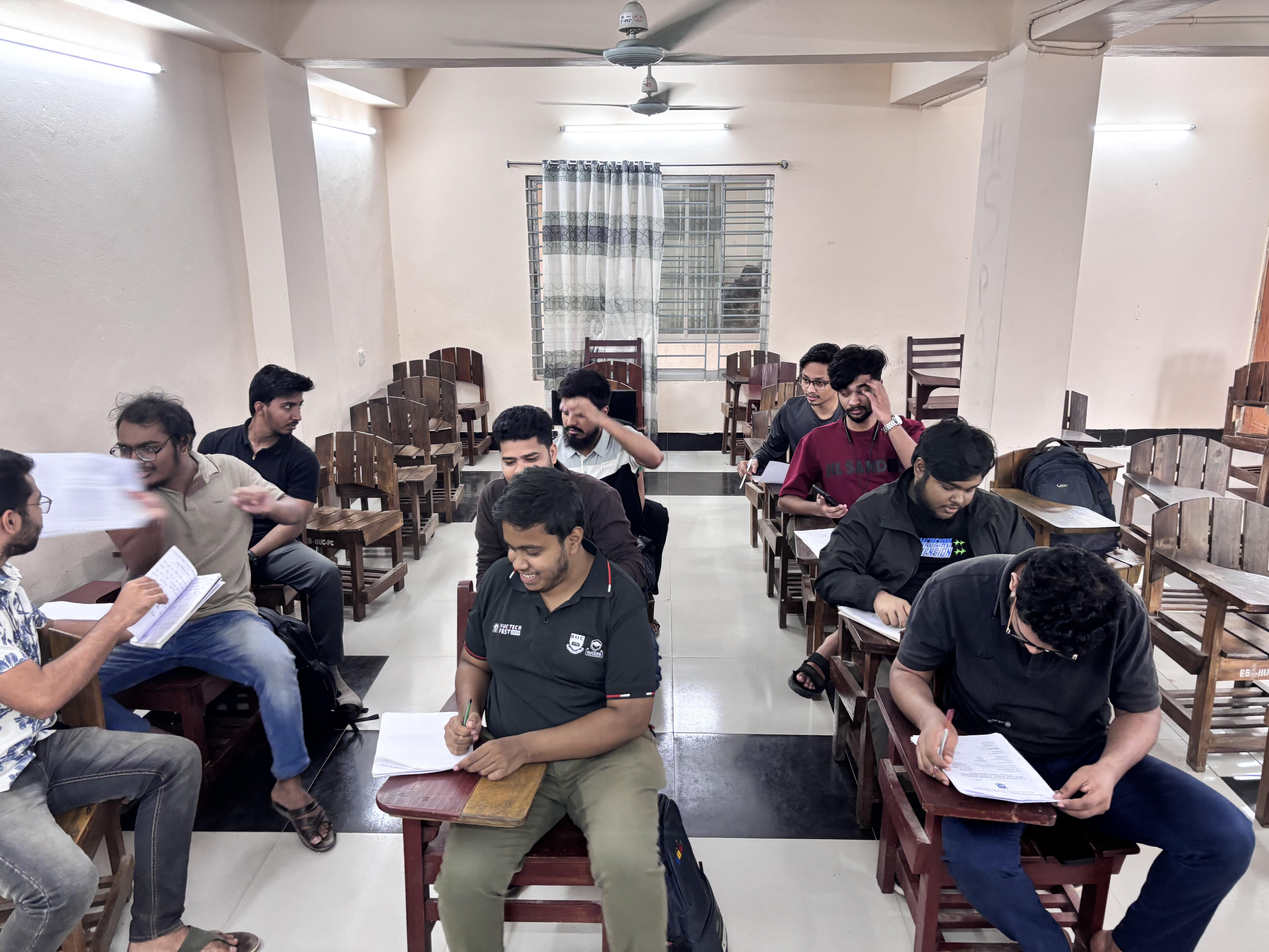copying: (223, 349, 324, 513), (478, 403, 572, 500)
exchanging_sheets: (1, 424, 210, 867)
no_cheating: (915, 531, 1137, 840), (440, 476, 614, 807), (860, 410, 1004, 649), (531, 364, 659, 528), (756, 341, 841, 494)
suspicious_moving: (90, 394, 308, 662)
using_phone: (813, 332, 909, 549)
